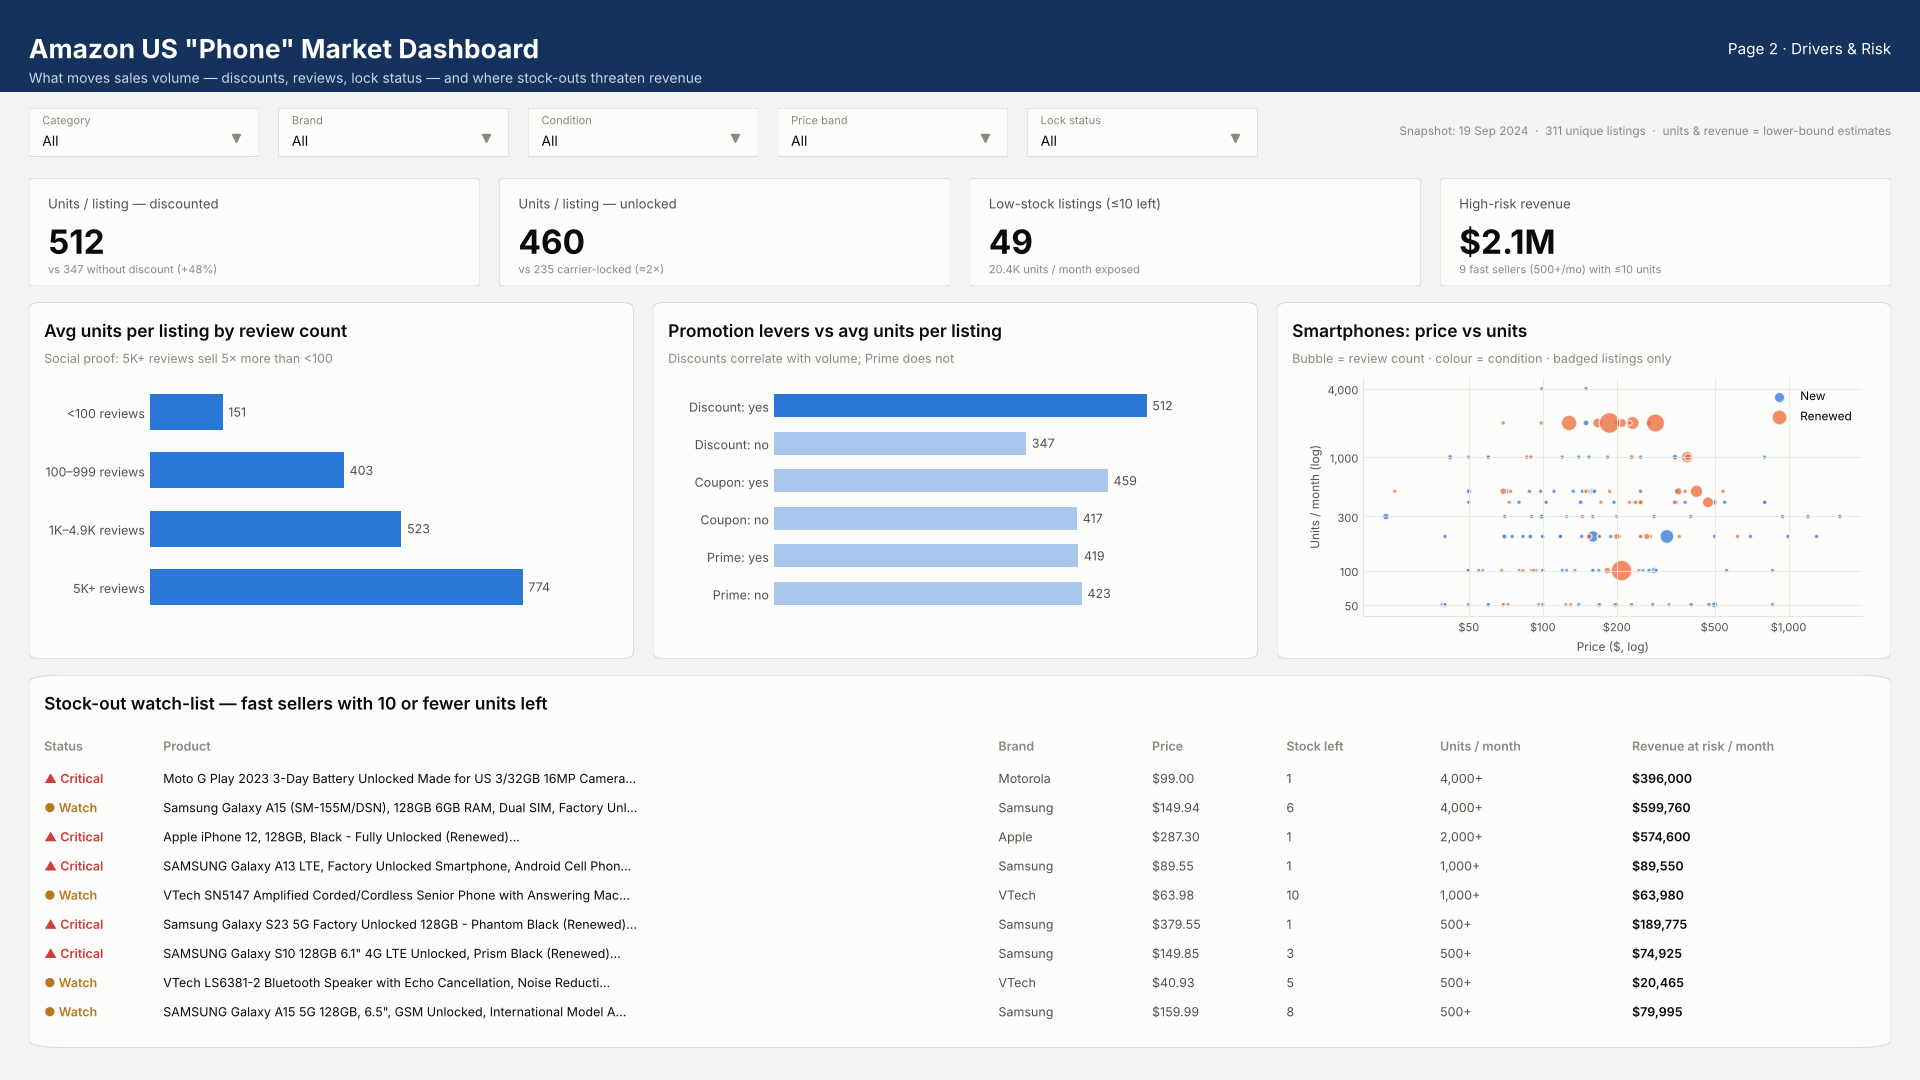

The page's visual inventory and layout, read from the dashboard file:
{"tool":"powerbi","page":{"name":"Drivers & Risk","canvas":[1280,720],"ordinal":1},"visuals":[{"type":"textbox","box":[0,0,1000,58],"z":20000},{"type":"textbox","box":[1000,0,280,58],"z":21000},{"type":"slicer","fields":{"Values":["Dim_Category.category_name"]},"box":[16,64,150,60],"z":22000},{"type":"slicer","fields":{"Values":["Dim_Brand.brand_name"]},"box":[174,64,150,60],"z":23000},{"type":"slicer","fields":{"Values":["Fact_Listing.condition"]},"box":[332,64,150,60],"z":24000},{"type":"slicer","fields":{"Values":["Dim_PriceBand.price_band_name"]},"box":[490,64,150,60],"z":25000},{"type":"slicer","fields":{"Values":["Fact_Listing.lock_status"]},"box":[648,64,150,60],"z":26000},{"type":"card","fields":{"Values":["_Measures.Selection Note"]},"box":[812,64,452,60],"z":27000},{"type":"card","title":"Units / listing, discounted","fields":{"Values":["_Measures.Units per Listing - Discounted"]},"box":[16,130,306,92],"z":28000},{"type":"card","title":"Units / listing, unlocked","fields":{"Values":["_Measures.Units per Listing - Unlocked"]},"box":[330,130,306,92],"z":29000},{"type":"card","title":"Low-stock listings (10 or fewer left)","fields":{"Values":["_Measures.Low Stock Listings"]},"box":[644,130,306,92],"z":30000},{"type":"card","title":"High-risk revenue / month","fields":{"Values":["_Measures.High Risk Revenue"]},"box":[958,130,306,92],"z":31000},{"type":"clusteredBarChart","title":"Avg units per listing by review count","fields":{"Category":["Fact_Listing.review_bucket"],"Y":["_Measures.Units per Listing"]},"box":[16,230,410.7,238],"z":32000},{"type":"clusteredBarChart","title":"Promotion levers vs avg units per listing","fields":{"Category":["Promo_Lever.lever"],"Y":["_Measures.Promo Units per Listing"]},"box":[434.7,230,410.7,238],"z":33000},{"type":"scatterChart","title":"Smartphones: price vs units","fields":{"Category":["Fact_Listing.asin"],"Series":["Fact_Listing.condition"],"Size":["_Measures.Total Reviews"],"X":["_Measures.Smartphone Price (badged)"],"Y":["_Measures.Smartphone Units (badged)"]},"box":[853.3,230,410.7,238],"z":34000},{"type":"tableEx","title":"Stock-out watch-list: fast sellers with 10 or fewer units left","fields":{"Values":["Fact_Listing.stock_status","Fact_Listing.asin","Fact_Listing.product_short","Fact_Listing.brand","_Measures.Watch Price","_Measures.Watch Stock Left","_Measures.Watch Units per Month","_Measures.Watch Revenue at Risk"]},"box":[16,476,1248,236],"z":35000}]}

Visuals, with their boxes in screenshot pixels (x1, y1, x2, y2), scaled from the page's 1280x720 canvas onto the 1920x1080 screenshot:
textbox: 0:0:1500:87
textbox: 1500:0:1919:87
slicer - Dim_Category.category_name: 24:96:249:186
slicer - Dim_Brand.brand_name: 261:96:486:186
slicer - Fact_Listing.condition: 498:96:723:186
slicer - Dim_PriceBand.price_band_name: 735:96:960:186
slicer - Fact_Listing.lock_status: 972:96:1197:186
card - _Measures.Selection Note: 1218:96:1896:186
"Units / listing, discounted" card: 24:195:483:333
"Units / listing, unlocked" card: 495:195:954:333
"Low-stock listings (10 or fewer left)" card: 966:195:1425:333
"High-risk revenue / month" card: 1437:195:1896:333
"Avg units per listing by review count" clusteredBarChart: 24:345:640:702
"Promotion levers vs avg units per listing" clusteredBarChart: 652:345:1268:702
"Smartphones: price vs units" scatterChart: 1280:345:1896:702
"Stock-out watch-list: fast sellers with 10 or fewer units left" tableEx: 24:714:1896:1068
